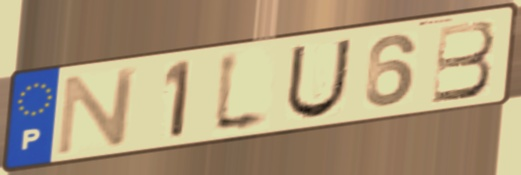1: (161, 57, 193, 140)
6: (362, 32, 421, 109)
B: (429, 18, 498, 106)
L: (209, 47, 274, 138)
N: (53, 64, 141, 158)
U: (282, 36, 355, 122)
